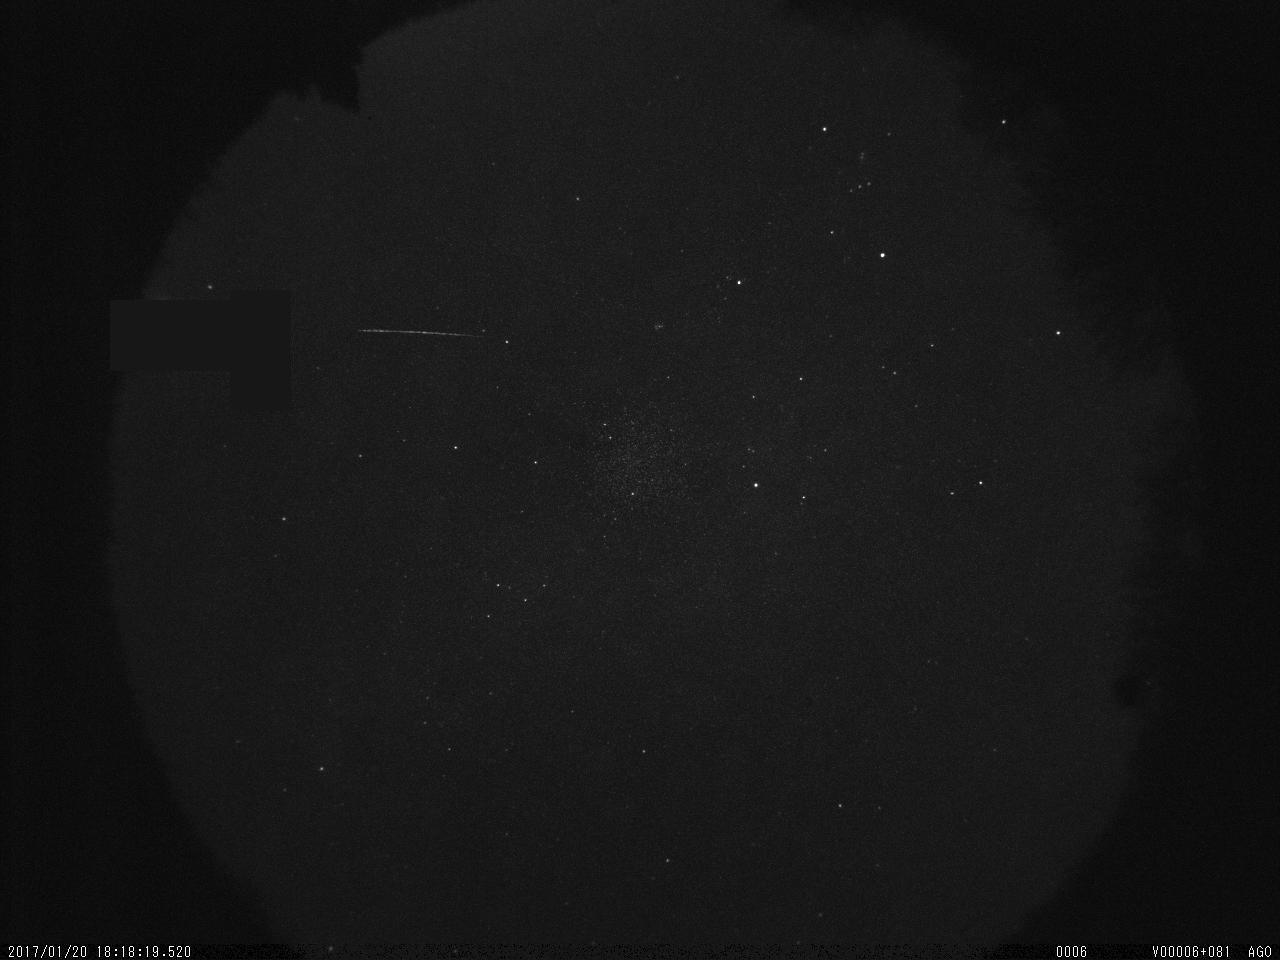meteor: (350, 314, 497, 355)
